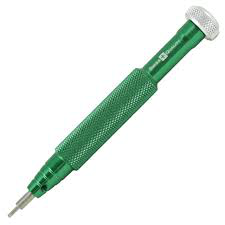Screwdriver: (6, 5, 223, 222)
